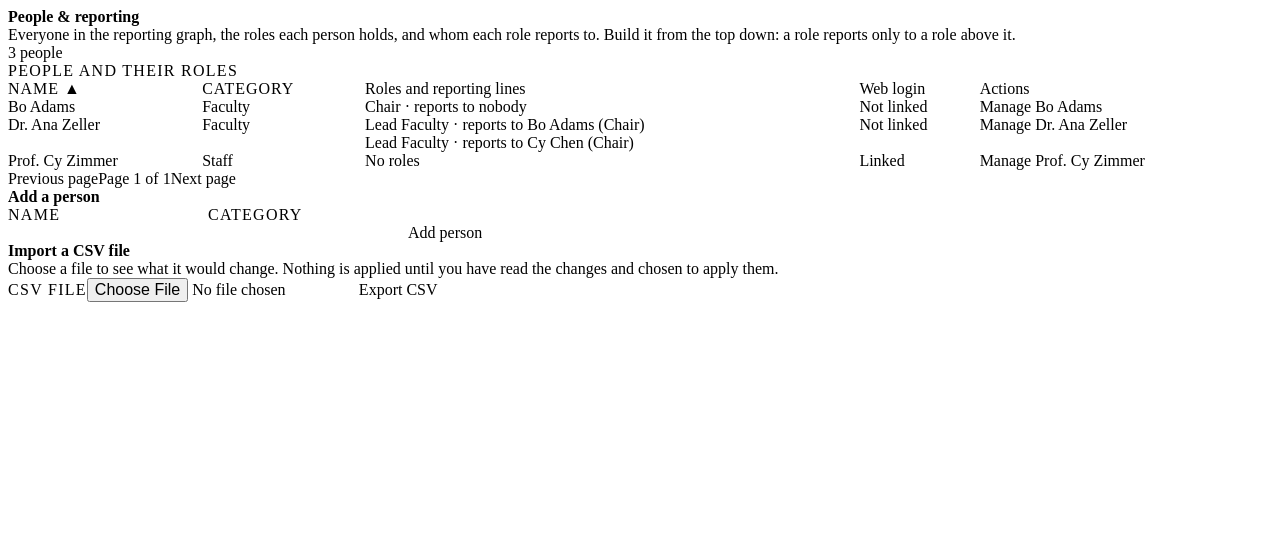
it: the person panel › clears a control’s refusal once a write from it lands
Click the button "Manage Bo Adams". click: coordinates (1041, 107)
box: [980, 98, 1102, 116]
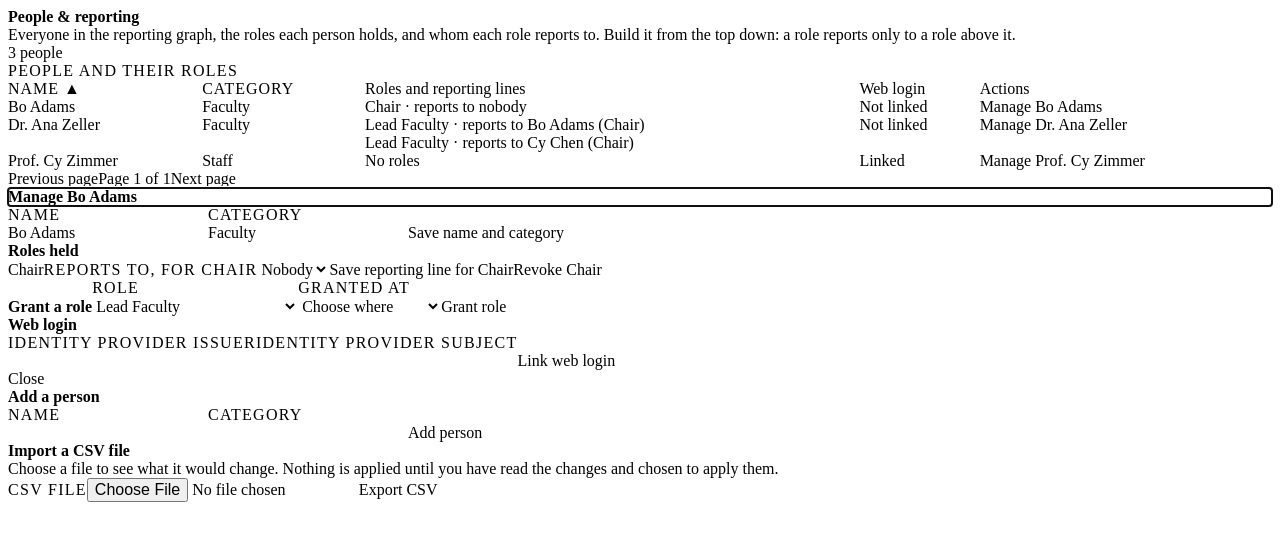
Select "Biology (Sciences)" in the dropdown labelled "Granted at". click: coordinates (370, 306)
box: [298, 297, 441, 316]
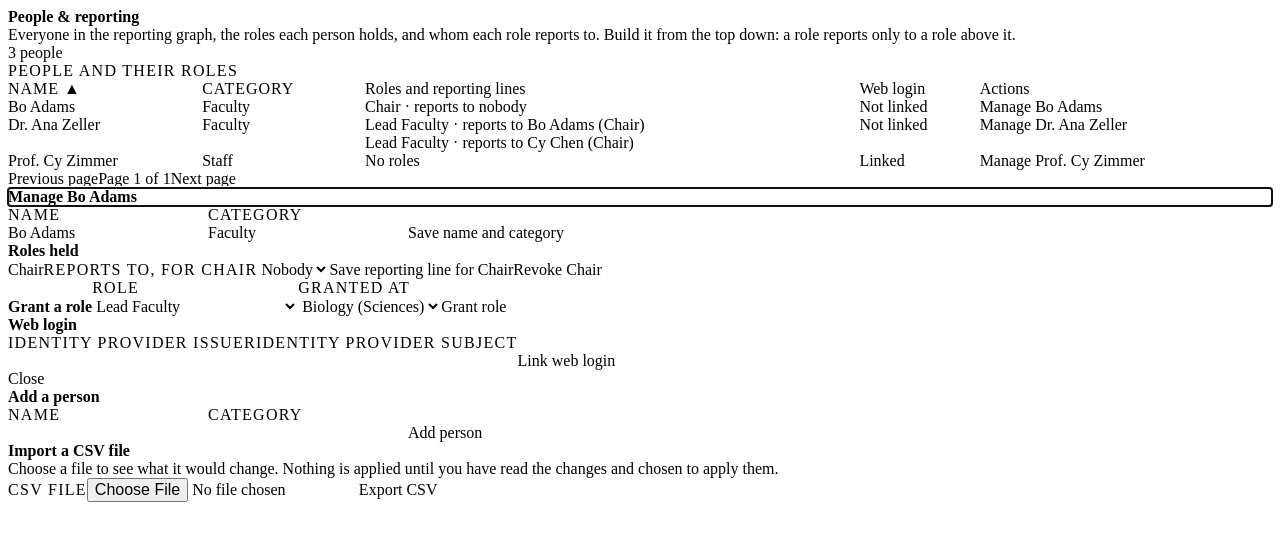
Click the button "Grant role". click: coordinates (474, 307)
box: [441, 298, 506, 316]
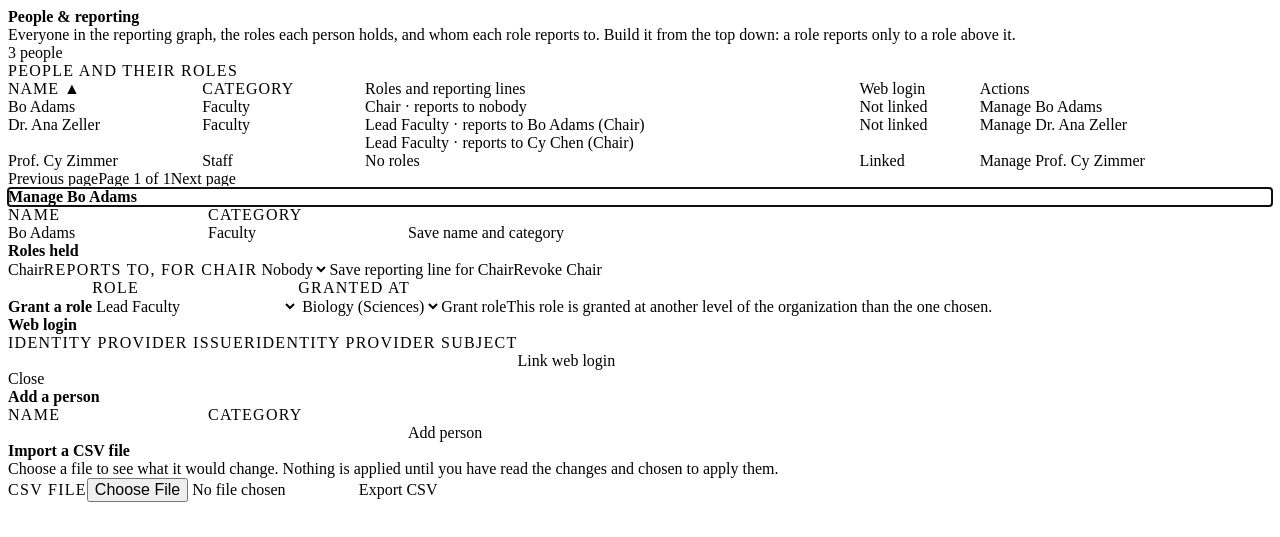
Click the button "Grant role". click: coordinates (474, 307)
box: [441, 298, 506, 316]
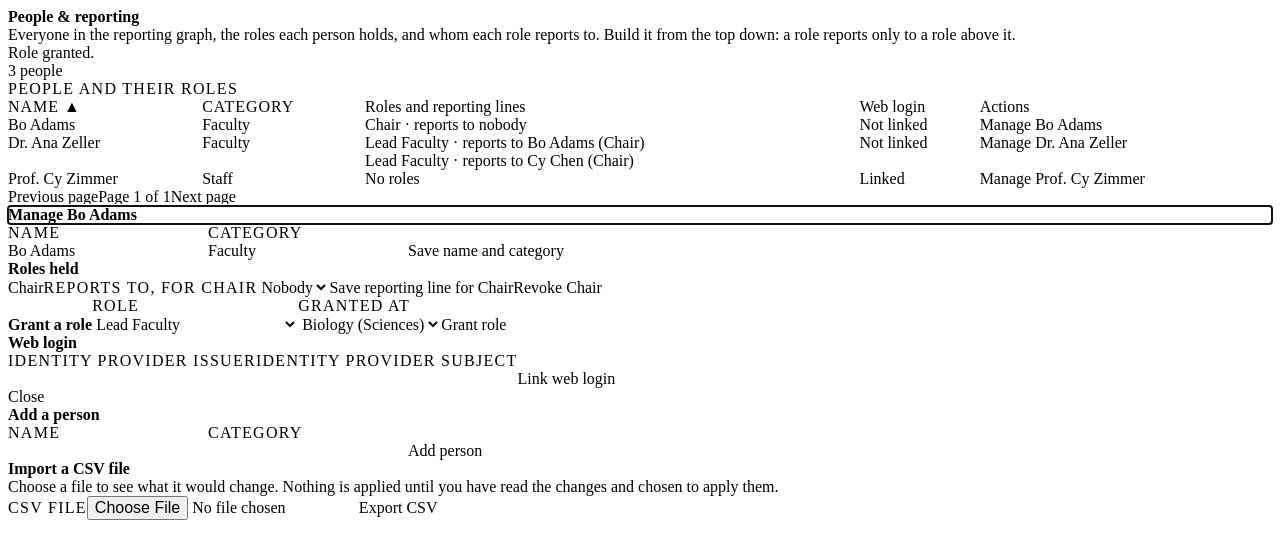
expect the message reads "Role granted.": met, box [8, 44, 94, 61]
expect the text "This role is granted at another level of the organization than the one chosen." is gone: met
